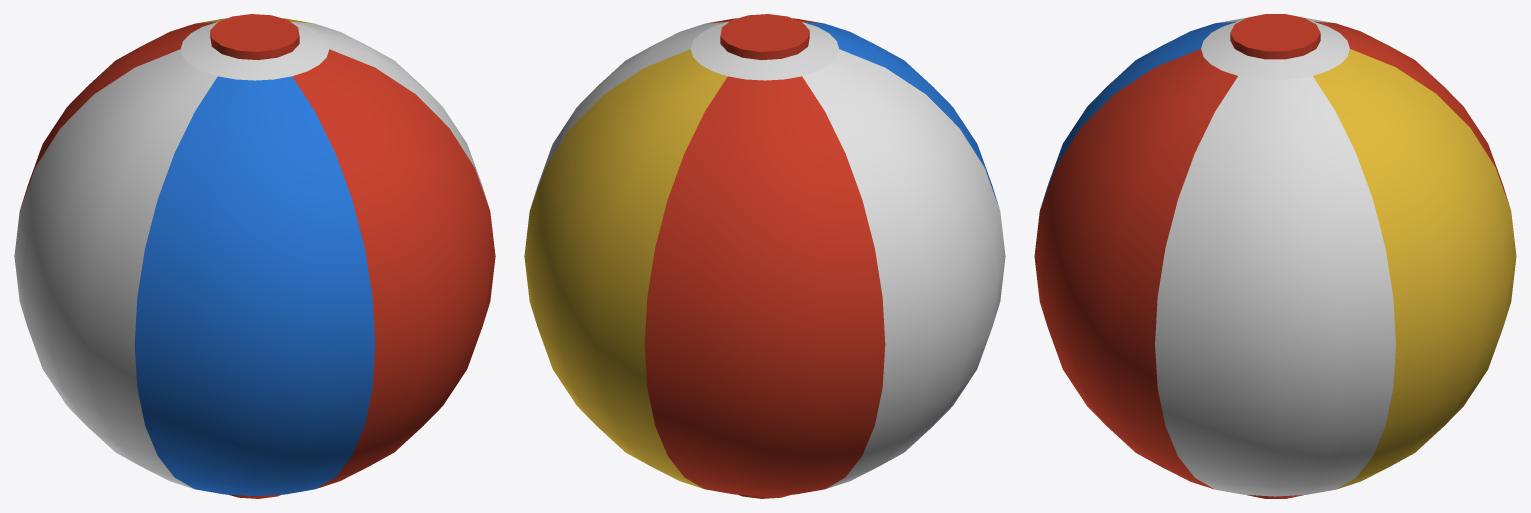
The model's file is ball.glb.
3 views of the same model, side by side, from view 1: azimuth 30°, elevation 25°; view 2: azimuth 150°, elevation 25°; view 3: azimuth 270°, elevation 25° (orthographic).
Parts seen in each view (by area): view 1: pv3_ball; view 2: pv3_ball; view 3: pv3_ball.
Boxes of the visible parts, bbox=[...] form: pv3_ball: bbox=[14, 14, 495, 498]; pv3_ball: bbox=[524, 14, 1005, 498]; pv3_ball: bbox=[1034, 14, 1516, 498].
Bounding box in the file's own units: 0.32 × 0.328 × 0.32.
